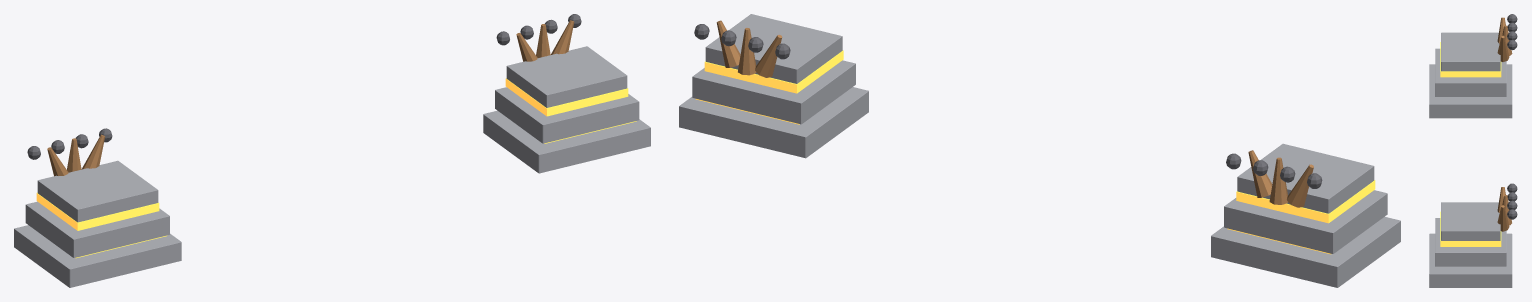
File: shoulders-bruiser3.glb
3 renders of one model, left to right at view 1: azimuth 30°, elevation 25°; view 2: azimuth 150°, elevation 25°; view 3: azimuth 270°, elevation 25°, orthographic. The views are drawn at different scales.
Visible parts, largest first — view 1: plate0_l, plate0_r, plate2_r, plate2_l, plate1_r, plate1_l, ventglow2_l, ventglow2_r; view 2: plate0_l, plate0_r, plate1_l, plate1_r, plate2_l, plate2_r, ventglow2_r, ventglow2_l, spike1_l, spike1_r, spike0_l, spike0_r (+2 smaller); view 3: plate2_r, plate0_r, plate0_l, plate2_l, plate1_l, plate1_r, ventglow2_r, ventglow2_l, spike2_l, spike2_r, spike0_r, spike1_l (+10 smaller).
Part boxes in pixels (<box>): plate0_l: <box>483,110,650,173</box>; plate0_r: <box>14,225,181,287</box>; plate2_r: <box>37,160,158,222</box>; plate2_l: <box>506,46,627,107</box>; plate1_r: <box>25,201,169,257</box>; plate1_l: <box>495,87,639,143</box>; ventglow2_l: <box>505,78,628,116</box>; ventglow2_r: <box>36,192,159,230</box>; plate0_l: <box>679,87,868,158</box>; plate0_r: <box>1211,216,1400,287</box>; plate1_l: <box>692,60,855,124</box>; plate1_r: <box>1224,190,1387,253</box>; plate2_l: <box>705,14,842,83</box>; plate2_r: <box>1237,143,1374,213</box>; ventglow2_r: <box>1236,180,1375,223</box>; ventglow2_l: <box>704,50,843,93</box>; spike1_l: <box>738,28,756,75</box>; spike1_r: <box>1269,157,1287,204</box>; spike0_l: <box>755,34,782,77</box>; spike0_r: <box>1287,164,1313,207</box>; plate2_r: <box>1441,32,1500,71</box>; plate0_r: <box>1429,64,1512,118</box>; plate0_l: <box>1429,233,1512,287</box>; plate2_l: <box>1441,202,1500,240</box>; plate1_l: <box>1435,218,1506,266</box>; plate1_r: <box>1435,48,1506,96</box>; ventglow2_r: <box>1440,42,1501,77</box>; ventglow2_l: <box>1440,211,1501,246</box>; spike2_l: <box>1497,205,1509,231</box>; spike2_r: <box>1497,35,1509,61</box>; spike0_r: <box>1497,17,1505,43</box>; spike1_l: <box>1502,195,1511,225</box>.
Bounding box in the file's own units: 1.14 × 0.1825 × 0.202.
